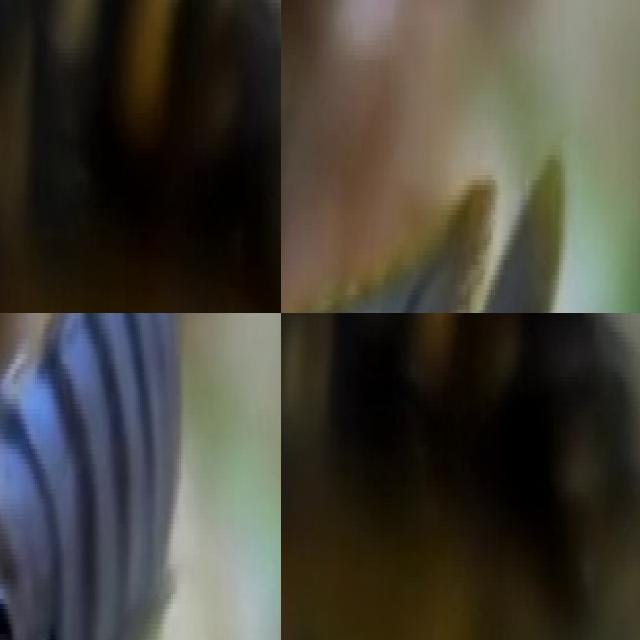fish: (0, 0, 281, 313), (281, 85, 561, 313)
